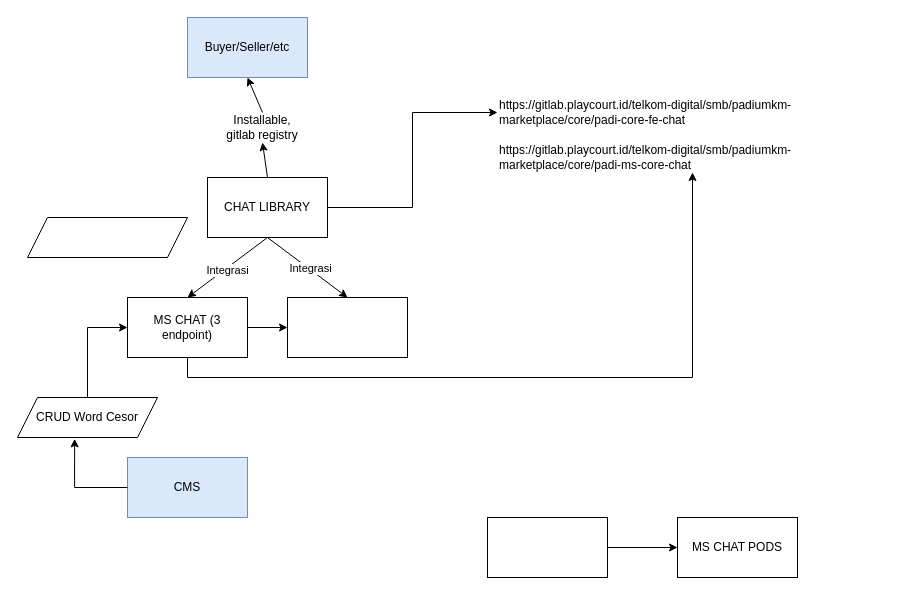
Image size: 905x595. Some labels were removed from this diagram. The shapes that lost their labels are listed below. From the top down, each one's centre as x and y in pixels, then its label:
At (x=107, y=237): "Read-only Word Cesor".
At (x=347, y=327): "Firebase SDKs".
At (x=547, y=547): "Gateway".
